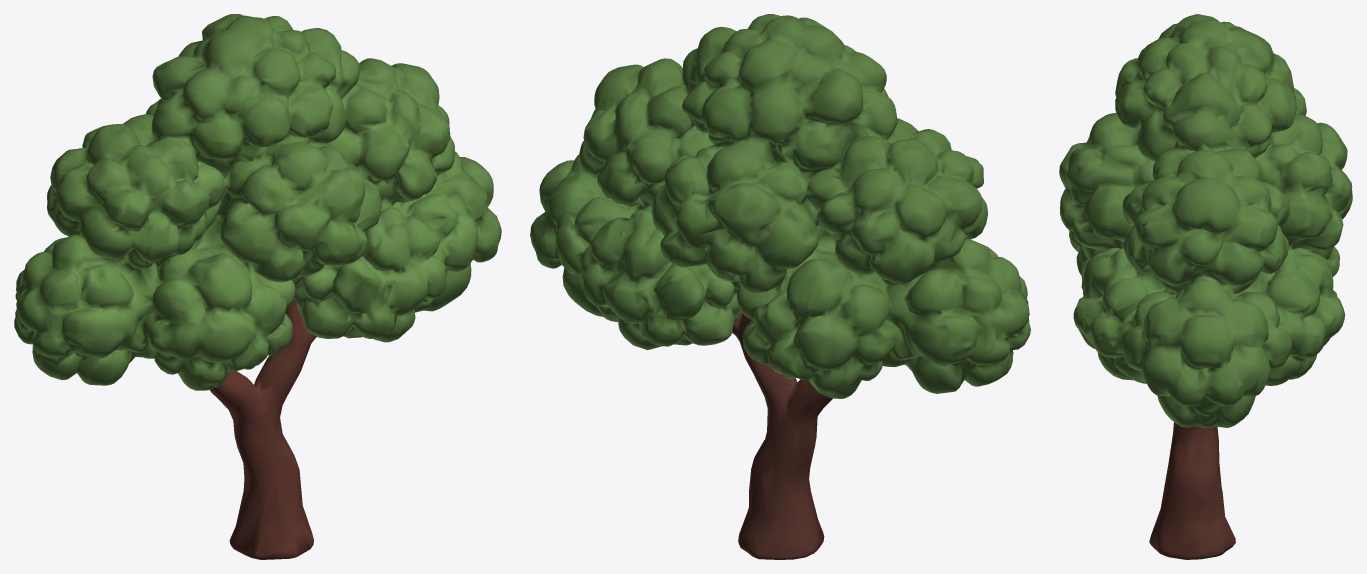
Rendered from sakura-4-green.glb.
3 renders of one model, left to right at view 1: azimuth 30°, elevation 25°; view 2: azimuth 150°, elevation 25°; view 3: azimuth 270°, elevation 25°, orthographic. The views are drawn at different scales.
Bounding box in the file's own units: 1.78 × 1.9 × 0.978.
Materials: 1 (1 with a texture image).
